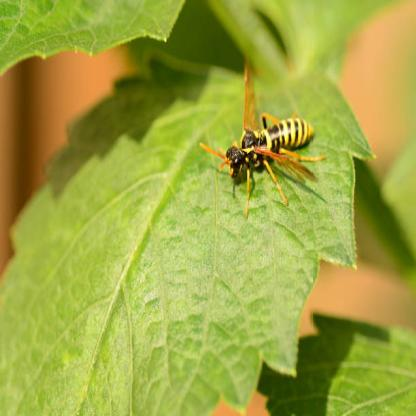sawfly: (198, 64, 331, 221)
